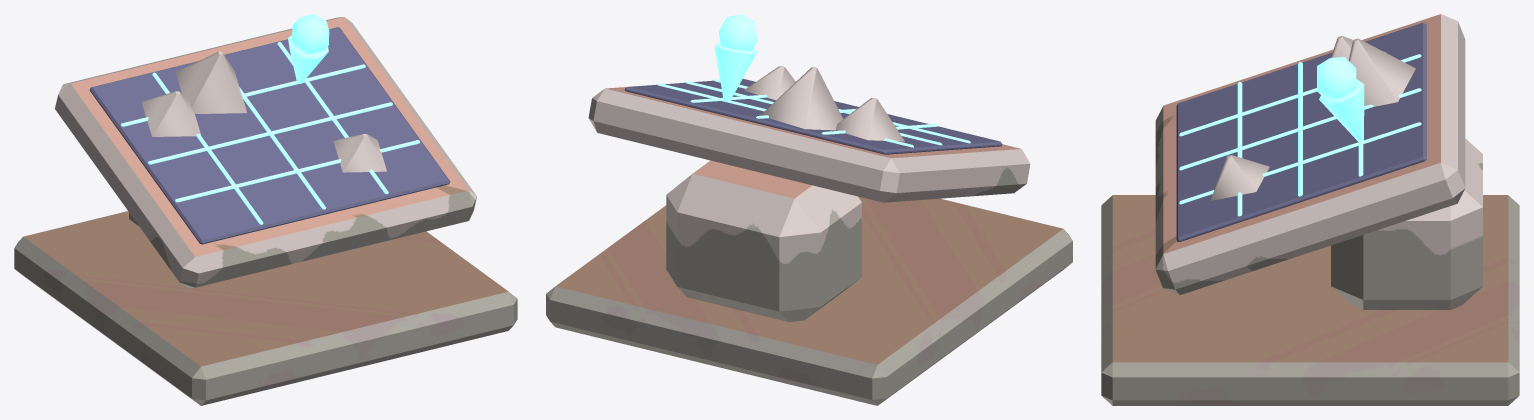
File: R4X_Minimap_LOD1.glb
3 views of the same model, side by side, from view 1: azimuth 30°, elevation 25°; view 2: azimuth 150°, elevation 25°; view 3: azimuth 270°, elevation 25° (orthographic). The views are drawn at different scales.
Visible parts, largest first — view 1: R4X_Minimap_LOD1; view 2: R4X_Minimap_LOD1; view 3: R4X_Minimap_LOD1.
Part boxes in pixels (bbox=[...]): R4X_Minimap_LOD1: bbox=[14, 14, 517, 405]; R4X_Minimap_LOD1: bbox=[546, 14, 1072, 405]; R4X_Minimap_LOD1: bbox=[1101, 14, 1519, 405].
Bounding box in the file's own units: 0.52 × 0.403 × 0.52.
4 materials, 3 textured.
